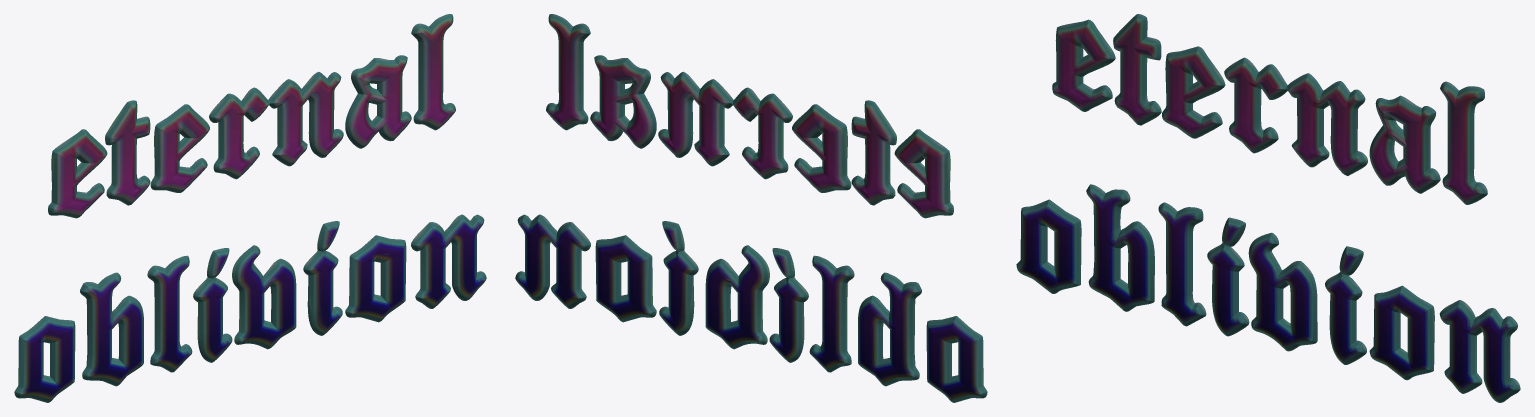
3 views of the same model, side by side, from view 1: azimuth 30°, elevation 25°; view 2: azimuth 150°, elevation 25°; view 3: azimuth 330°, elevation 25° (orthographic). The views are drawn at different scales.
Parts seen in each view (by area): view 1: olde_english_trans; view 2: olde_english_trans; view 3: olde_english_trans.
Boxes of the visible parts, x1=… form: olde_english_trans: x1=14, y1=14, x2=486, y2=402; olde_english_trans: x1=515, y1=14, x2=987, y2=402; olde_english_trans: x1=1016, y1=14, x2=1520, y2=402.
Bounding box in the file's own units: 5.65 × 3.33 × 0.1431.
Materials: 1 (1 with a texture image).
